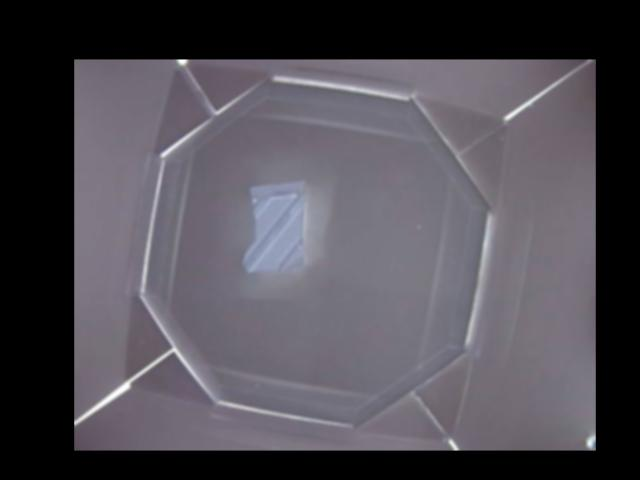China: (239, 181, 308, 273)
